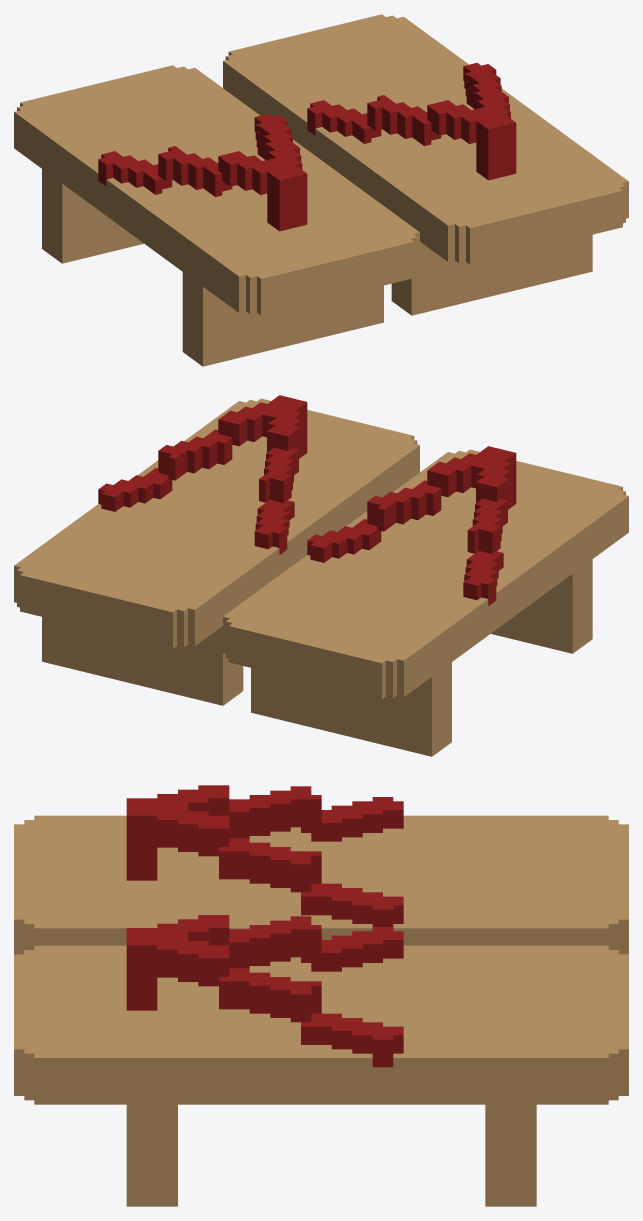
File: geta.glb
3 views of the same model, one above another, from view 1: azimuth 30°, elevation 25°; view 2: azimuth 150°, elevation 25°; view 3: azimuth 270°, elevation 25° (orthographic). The views are drawn at different scales.
Parts seen in each view (by area): view 1: geta:compound; view 2: geta:compound; view 3: geta:compound.
Boxes of the visible parts, x1,y1,x2,y2 form: geta:compound: [14, 14, 628, 366]; geta:compound: [14, 395, 628, 756]; geta:compound: [14, 785, 628, 1206].
Size of the model in its own units: 0.224 by 0.092 by 0.24.
